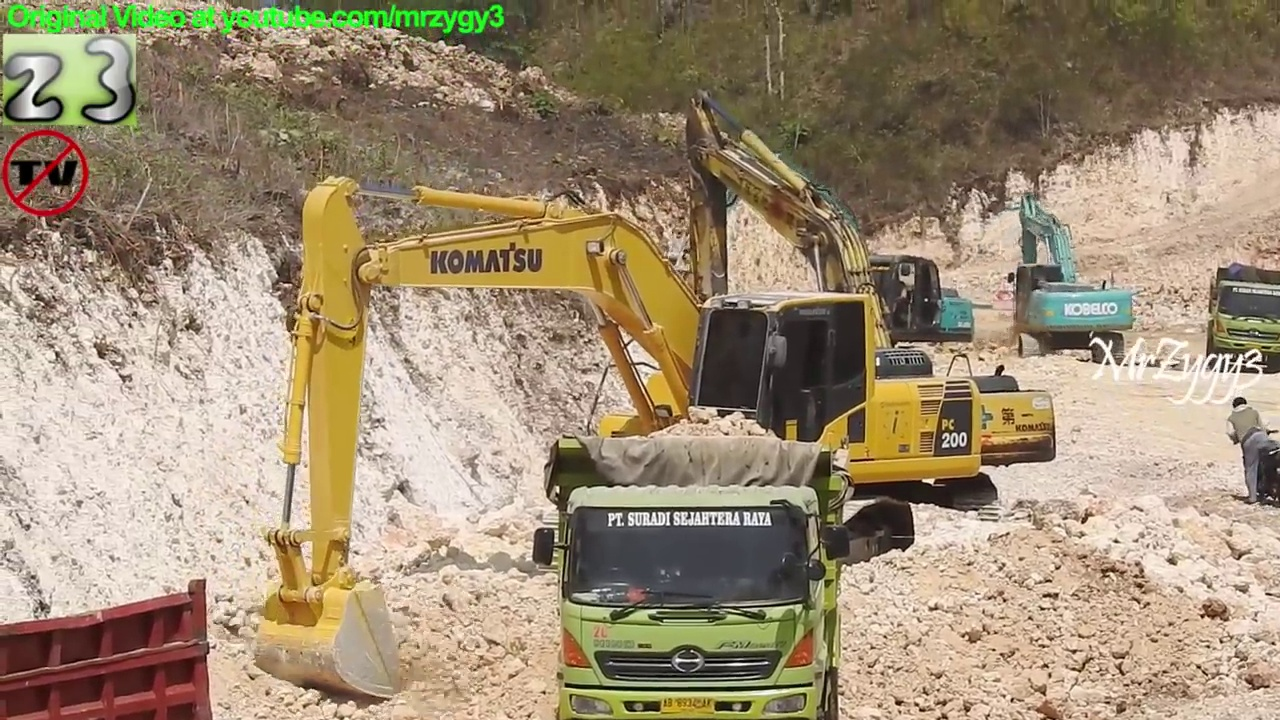excavator: (248, 169, 991, 706), (653, 83, 1065, 537), (644, 148, 985, 376), (1002, 188, 1140, 369)
truck: (527, 427, 860, 720), (1, 575, 215, 720), (1200, 259, 1280, 379)
